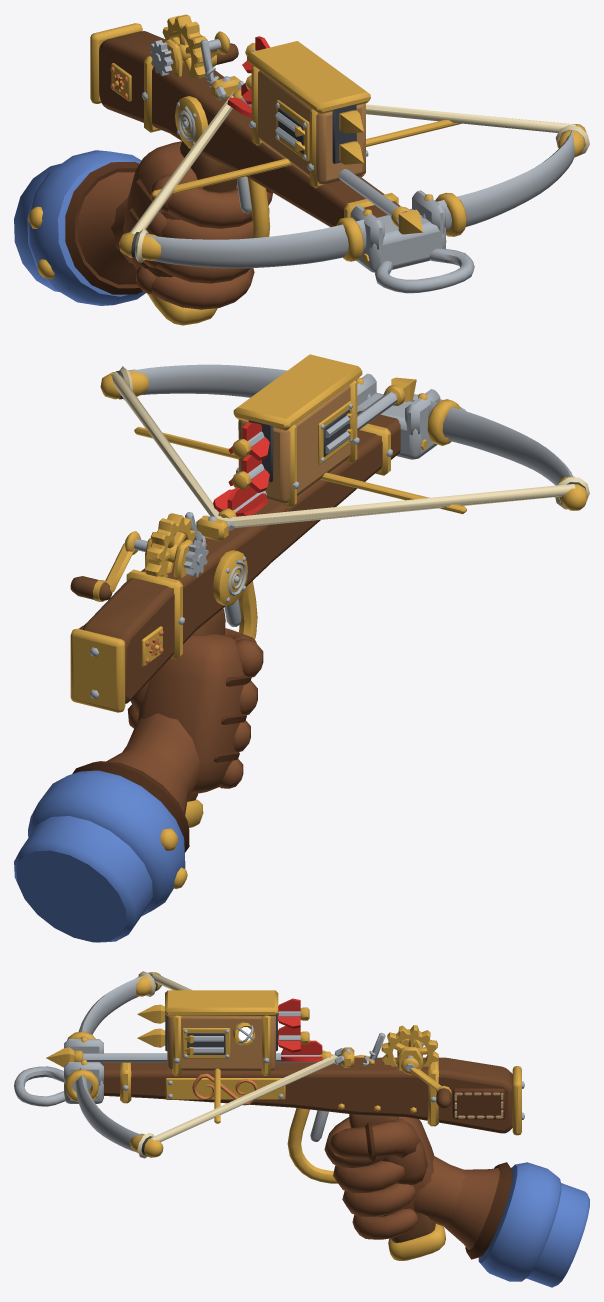
The model's file is vm_crossbow.glb.
The picture shows the model from 3 angles, top to bottom: view 1: azimuth 30°, elevation 25°; view 2: azimuth 150°, elevation 25°; view 3: azimuth 270°, elevation 25°; orthographic projection. The views are drawn at different scales.
Parts seen in each view (by area): view 1: Crossbow, Glove, Bolt; view 2: Crossbow, Glove, Bolt; view 3: Crossbow, Glove, Bolt.
Boxes of the visible parts, x1,y1,x2,y2 form: Crossbow: [90, 14, 589, 325]; Glove: [14, 141, 272, 309]; Bolt: [227, 83, 423, 234]; Crossbow: [70, 354, 589, 827]; Glove: [14, 628, 263, 942]; Bolt: [213, 377, 416, 518]; Crossbow: [14, 971, 524, 1260]; Glove: [324, 1116, 589, 1287]; Bolt: [46, 1040, 330, 1067].
Size of the model in its own units: 0.5183 by 0.3964 by 0.7206.
